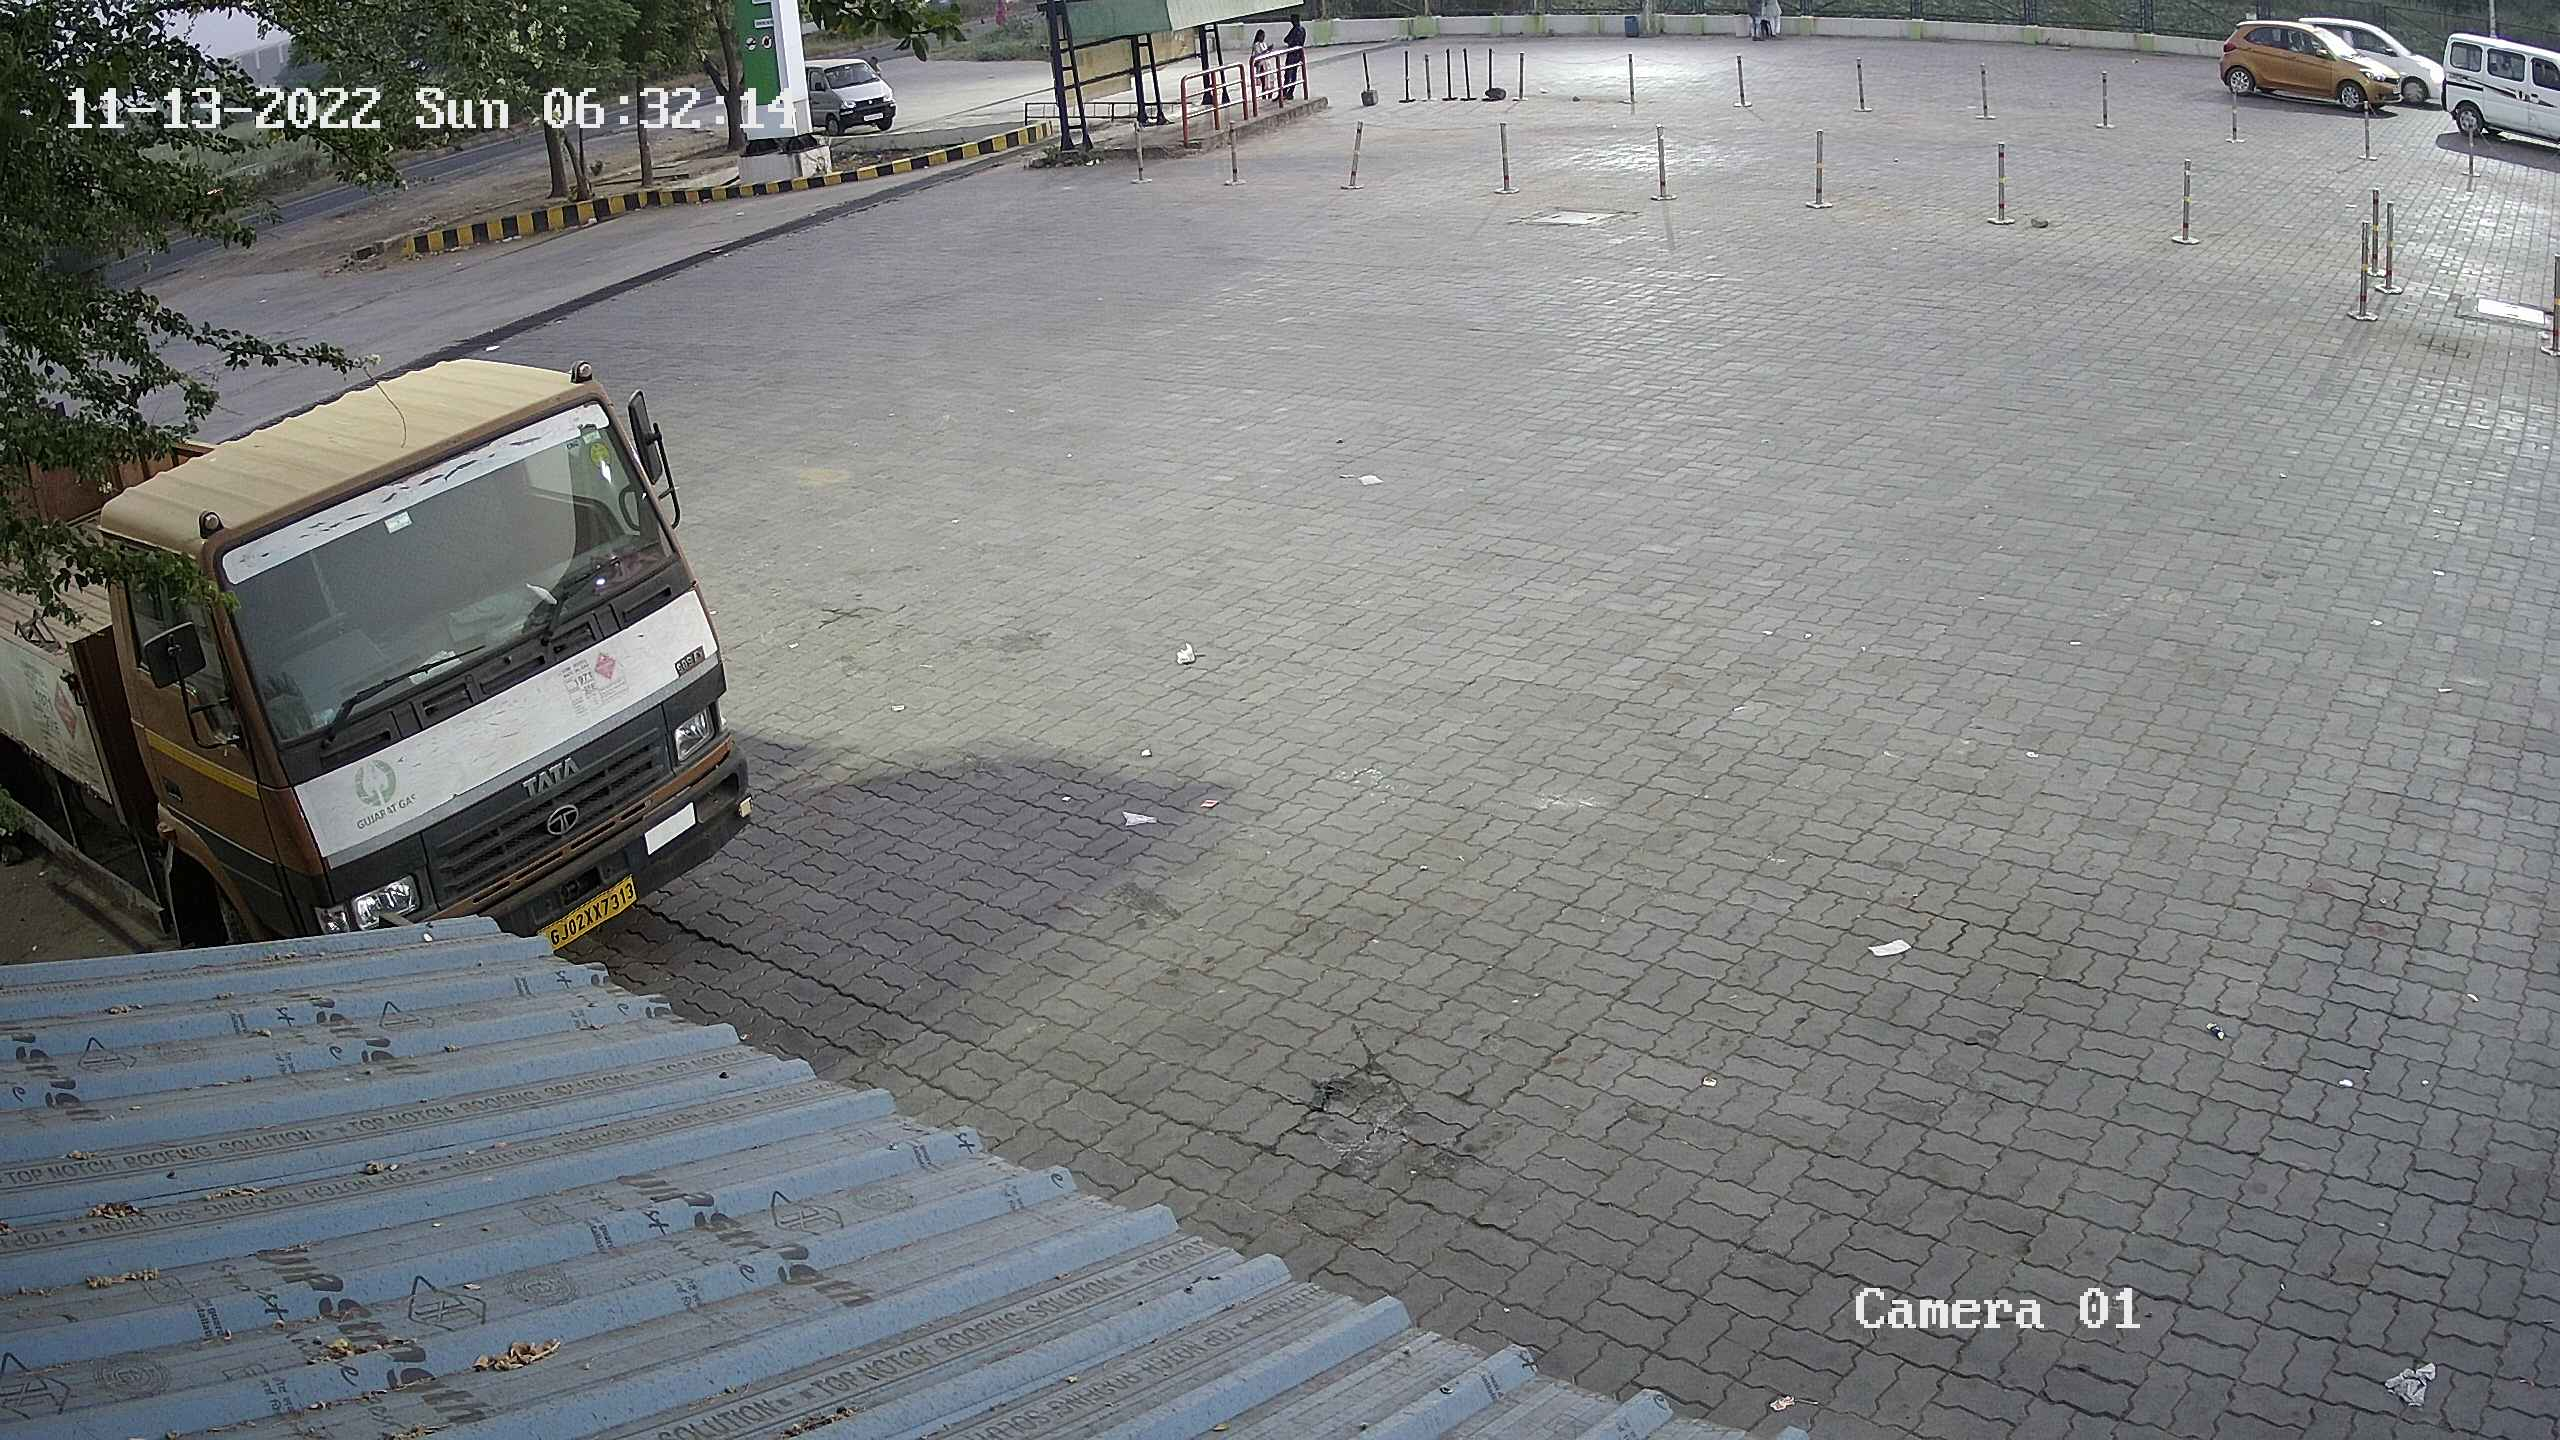Car: (2208, 11, 2411, 125), (2430, 23, 2558, 148), (2289, 9, 2440, 113), (793, 51, 904, 135)
HMV: (2, 343, 761, 969)
